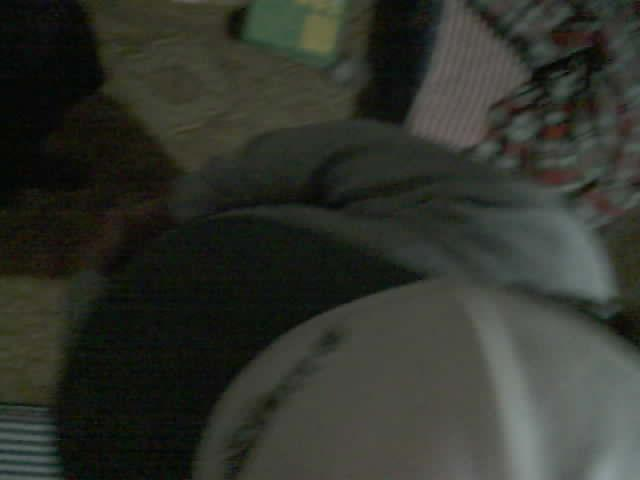cap: (190, 275, 639, 479)
